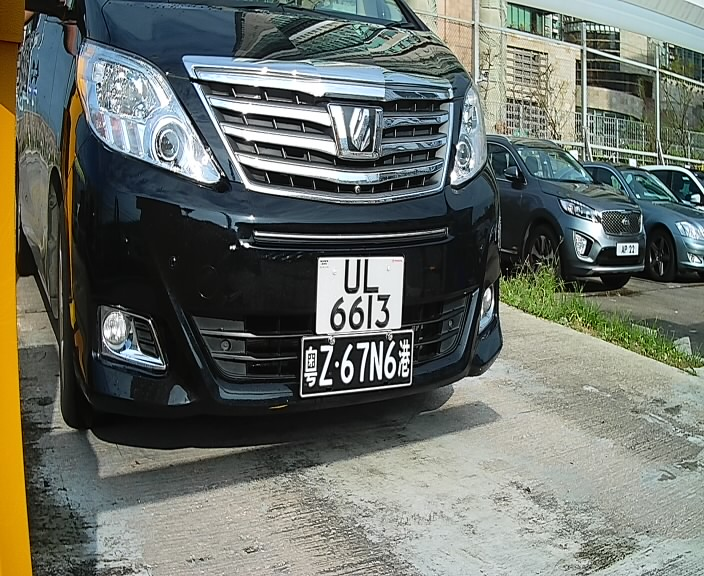Car: (12, 2, 529, 458)
License Plate: (309, 243, 414, 349)
